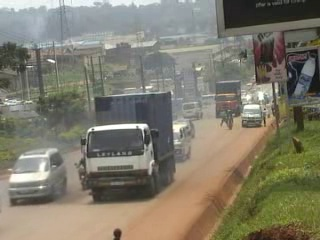Car: (6, 144, 69, 205), (173, 116, 195, 140)
Motorcycle: (74, 151, 95, 192), (221, 106, 238, 131)
